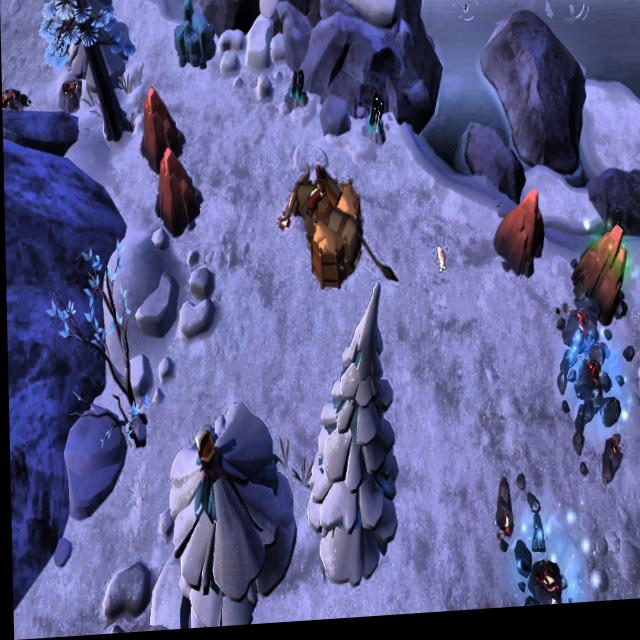ore_t4: (364, 96, 385, 146), (288, 73, 307, 105)
rock_t4: (171, 1, 216, 75)
rock_t5: (569, 224, 628, 333), (491, 188, 544, 285), (153, 148, 202, 246), (138, 84, 185, 170)
